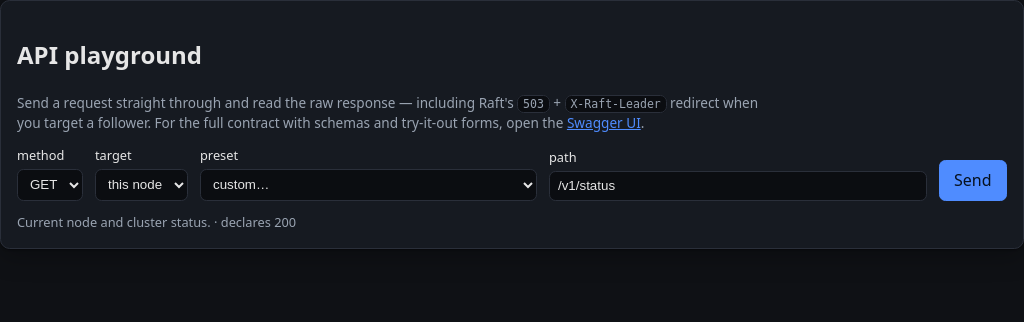
Scenario: Playground › shows a network error instead of swallowing it
Click the button "Send" at point(973, 180), box [939,160,1007,201]
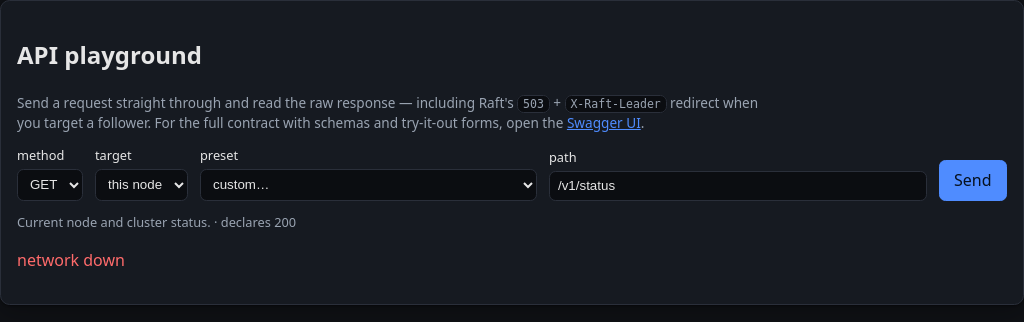
Result: the text "network down" is shown at [17,249,125,271]
